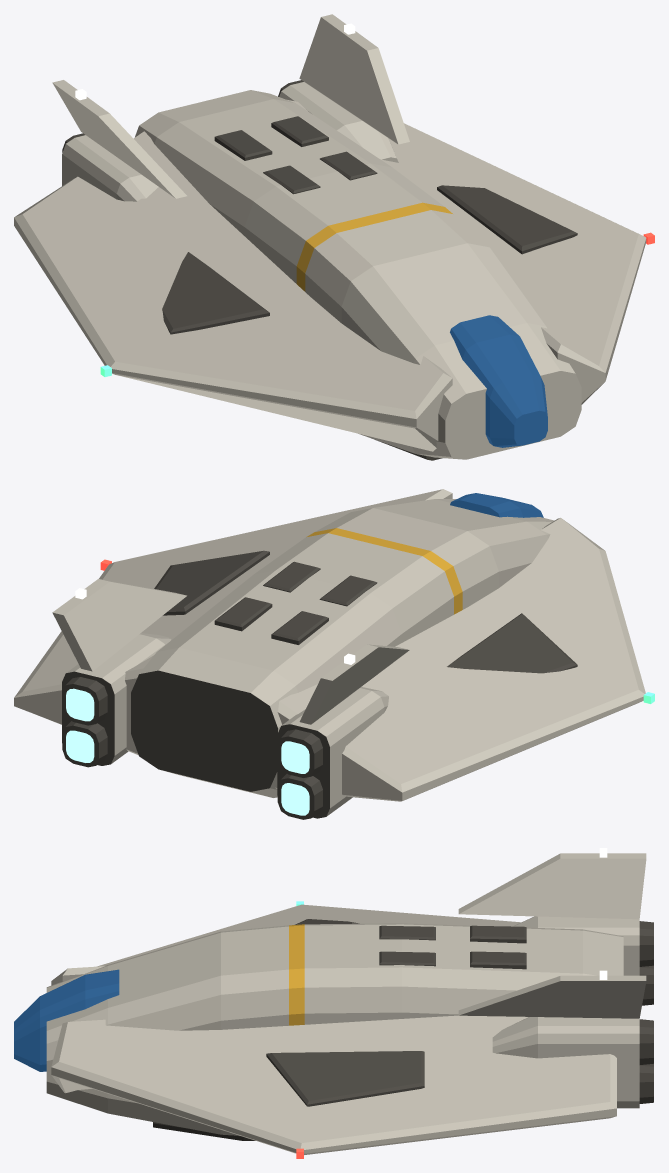
File: asp-explorer.glb
3 views of the same model, one above another, from view 1: azimuth 30°, elevation 25°; view 2: azimuth 150°, elevation 25°; view 3: azimuth 270°, elevation 25° (orthographic). The views are drawn at different scales.
Visible parts, largest first — view 1: asp-explorer; view 2: asp-explorer; view 3: asp-explorer.
Part boxes in pixels (bbox=[...]): asp-explorer: bbox=[14, 14, 654, 460]; asp-explorer: bbox=[14, 489, 654, 819]; asp-explorer: bbox=[14, 848, 653, 1158].
Bounding box in the file's own units: 52.42 × 21.09 × 56.65.
